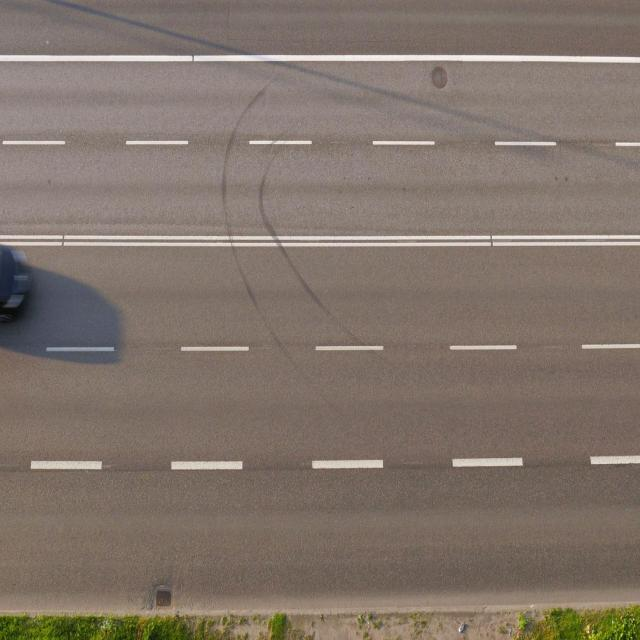Car: (0, 239, 30, 325)
